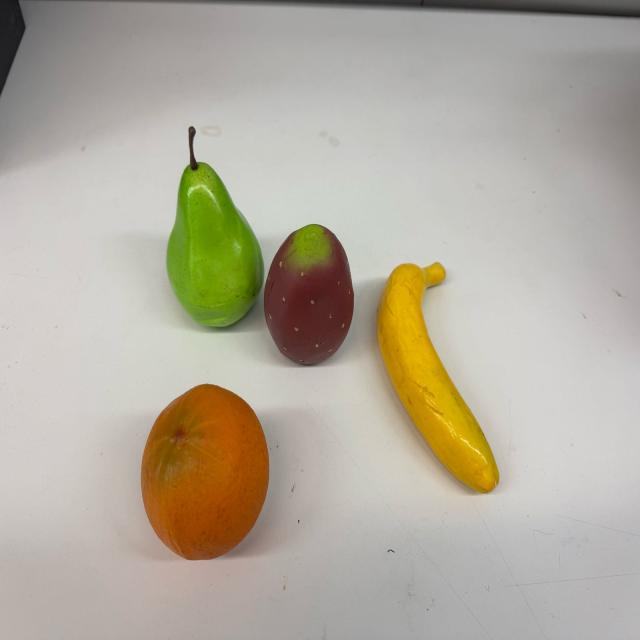banana: (375, 261, 500, 494)
orange: (141, 383, 271, 560)
pear: (164, 126, 264, 327)
tuna: (264, 224, 354, 367)
